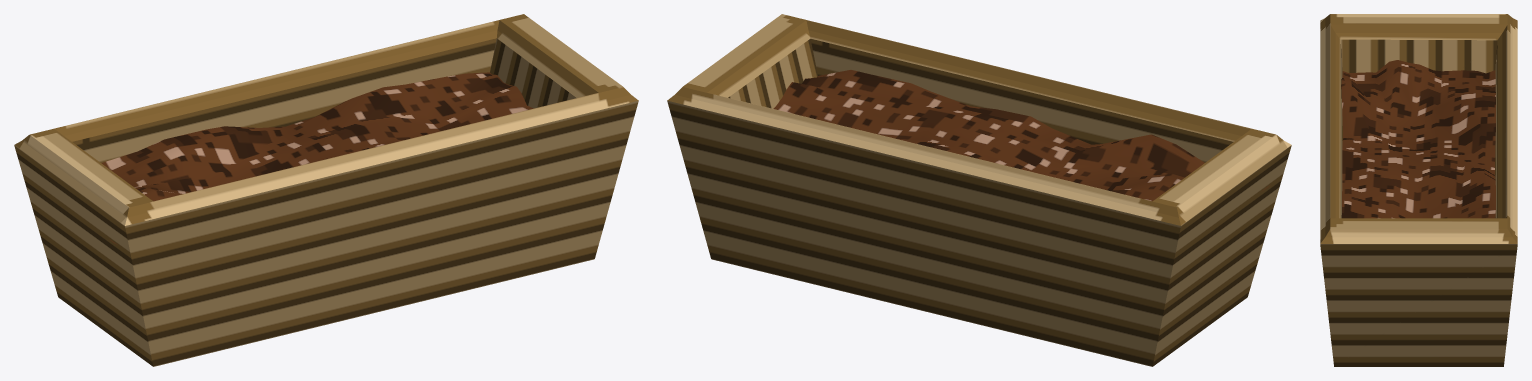
The model's file is Pot3.fbx.
3 renders of one model, left to right at view 1: azimuth 30°, elevation 25°; view 2: azimuth 150°, elevation 25°; view 3: azimuth 270°, elevation 25°, orthographic. The views are drawn at different scales.
Parts seen in each view (by area): view 1: Mud; view 2: Mud; view 3: Mud.
Part boxes in pixels (box(x1,y1,x2,y2)): Mud: box(14, 14, 638, 366); Mud: box(667, 14, 1291, 366); Mud: box(1320, 14, 1517, 366).
Size of the model in its own units: 83.98 by 26.16 by 31.37.
Materials: 1 (1 with a texture image).
